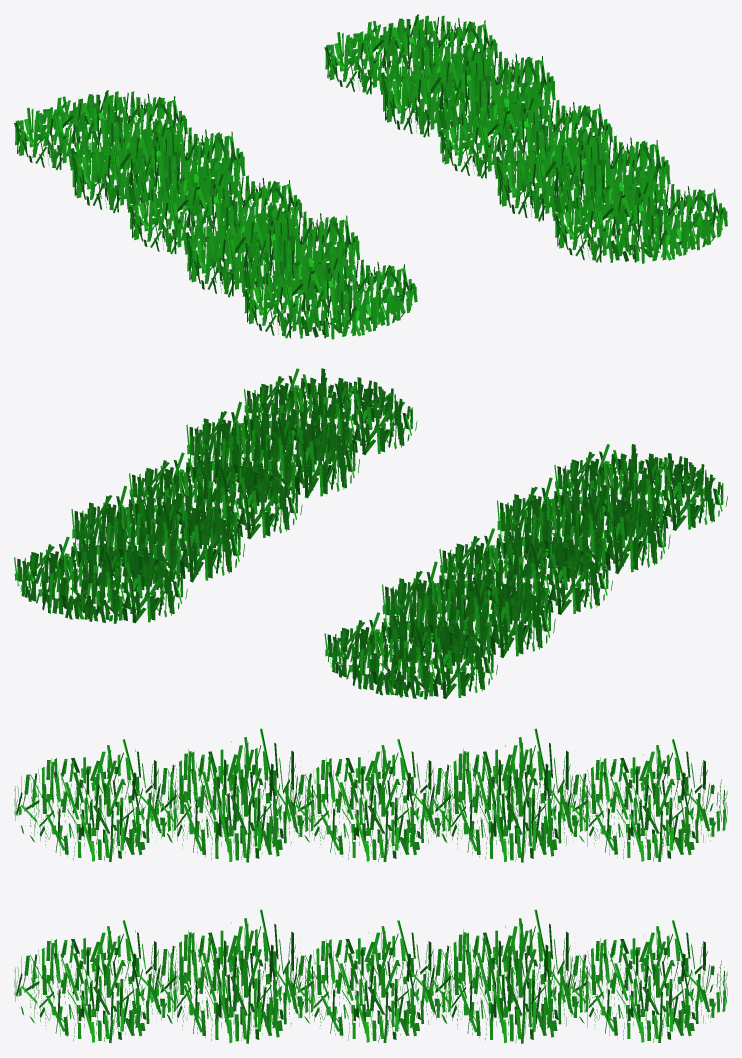
Rendered from grass2Line2.glb.
3 views of the same model, one above another, from view 1: azimuth 30°, elevation 25°; view 2: azimuth 150°, elevation 25°; view 3: azimuth 270°, elevation 25° (orthographic). The views are drawn at different scales.
Visible parts, largest first — view 1: Trava Kolosok.002, Trava Kolosok.004, Trava Kolosok.008, Trava Kolosok.006, Trava Kolosok.077, Trava Kolosok.009, Trava Kolosok.001, Trava Kolosok.005, Trava Kolosok.003, Trava Kolosok.007; view 2: Trava Kolosok.006, Trava Kolosok.008, Trava Kolosok.004, Trava Kolosok.002, Trava Kolosok.001, Trava Kolosok.005, Trava Kolosok.009, Trava Kolosok.077, Trava Kolosok.007, Trava Kolosok.003; view 3: Trava Kolosok.008, Trava Kolosok.004, Trava Kolosok.002, Trava Kolosok.006, Trava Kolosok.009, Trava Kolosok.077, Trava Kolosok.005, Trava Kolosok.001, Trava Kolosok.003, Trava Kolosok.007.
Part boxes in pixels (bbox=[...]): Trava Kolosok.002: bbox=[382, 47, 555, 137]; Trava Kolosok.004: bbox=[496, 131, 670, 221]; Trava Kolosok.008: bbox=[186, 207, 360, 297]; Trava Kolosok.006: bbox=[71, 123, 245, 213]; Trava Kolosok.077: bbox=[554, 182, 727, 263]; Trava Kolosok.009: bbox=[243, 258, 417, 339]; Trava Kolosok.001: bbox=[324, 14, 498, 94]; Trava Kolosok.005: bbox=[14, 90, 187, 170]; Trava Kolosok.003: bbox=[439, 98, 612, 178]; Trava Kolosok.007: bbox=[129, 174, 302, 254]; Trava Kolosok.006: bbox=[382, 561, 555, 657]; Trava Kolosok.008: bbox=[497, 477, 670, 573]; Trava Kolosok.004: bbox=[186, 401, 359, 498]; Trava Kolosok.002: bbox=[71, 486, 244, 582]; Trava Kolosok.001: bbox=[14, 536, 187, 623]; Trava Kolosok.005: bbox=[324, 612, 497, 699]; Trava Kolosok.009: bbox=[554, 444, 727, 531]; Trava Kolosok.077: bbox=[244, 368, 417, 455]; Trava Kolosok.007: bbox=[439, 528, 612, 615]; Trava Kolosok.003: bbox=[129, 452, 302, 539]; Trava Kolosok.008: bbox=[151, 728, 315, 862]; Trava Kolosok.004: bbox=[151, 909, 315, 1043]; Trava Kolosok.002: bbox=[426, 909, 590, 1043]; Trava Kolosok.006: bbox=[426, 728, 590, 862]; Trava Kolosok.009: bbox=[14, 739, 178, 861]; Trava Kolosok.077: bbox=[14, 920, 178, 1042]; Trava Kolosok.005: bbox=[563, 739, 727, 861]; Trava Kolosok.001: bbox=[563, 920, 727, 1042]; Trava Kolosok.003: bbox=[288, 920, 453, 1042]; Trava Kolosok.007: bbox=[288, 739, 453, 861].
Bounding box in the file's own units: 4.72 × 0.4 × 5.2.
